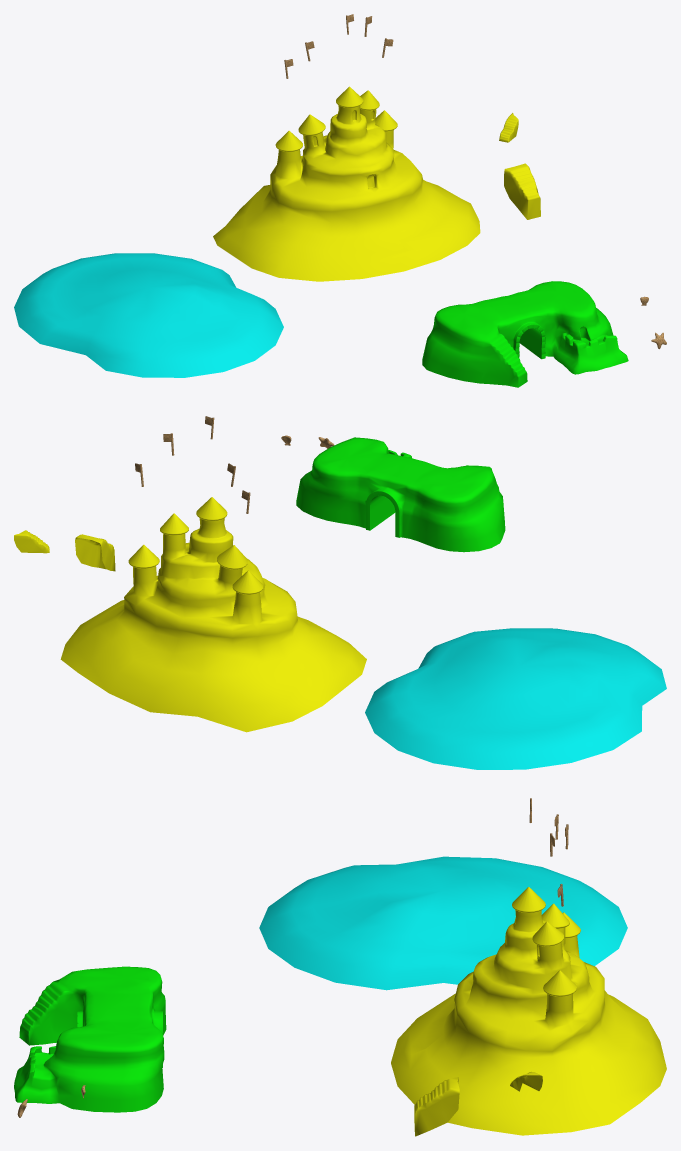
The model's file is sandcastle_v3.fbx.
3 renders of one model, top to bottom at view 1: azimuth 30°, elevation 25°; view 2: azimuth 150°, elevation 25°; view 3: azimuth 270°, elevation 25°, orthographic. The views are drawn at different scales.
Visible parts, largest first — view 1: sandcatle_base, sand_mound, sandcastle_gate_platform, sandcastle_stairs_01; view 2: sandcatle_base, sand_mound, sandcastle_gate_platform, sandcastle_stairs_01, sandcastle_stairs_02; view 3: sandcatle_base, sand_mound, sandcastle_gate_platform, sandcastle_stairs_01.
Part boxes in pixels (left/top/right/bottom): sandcatle_base: left=213, top=86, right=480, bottom=281; sand_mound: left=14, top=253, right=283, bottom=377; sandcastle_gate_platform: left=422, top=281, right=628, bottom=387; sandcastle_stairs_01: left=504, top=163, right=540, bottom=219; sandcatle_base: left=60, top=497, right=366, bottom=732; sand_mound: left=365, top=628, right=666, bottom=769; sandcastle_gate_platform: left=296, top=437, right=505, bottom=552; sandcastle_stairs_01: left=75, top=534, right=115, bottom=571; sandcastle_stairs_02: left=14, top=530, right=49, bottom=553; sandcatle_base: left=391, top=887, right=666, bottom=1135; sand_mound: left=259, top=856, right=627, bottom=990; sandcastle_gate_platform: left=14, top=966, right=166, bottom=1112; sandcastle_stairs_01: left=414, top=1077, right=459, bottom=1136.
Bounding box in the file's own units: 18070 × 7622 × 16154.
4 materials, 1 textured.
